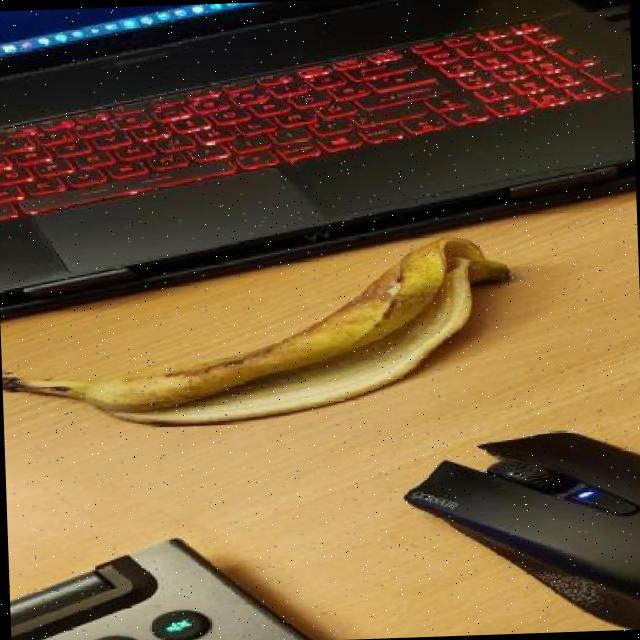banana-peel: (0, 230, 513, 428)
